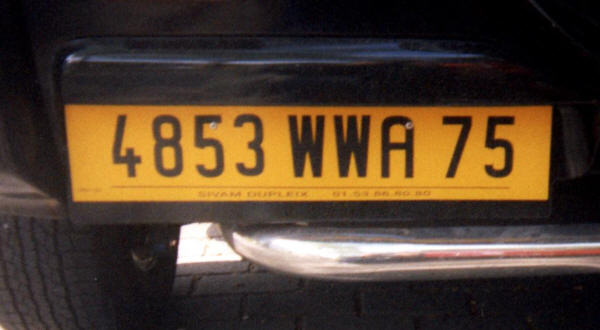license_plate: (64, 102, 555, 202)
